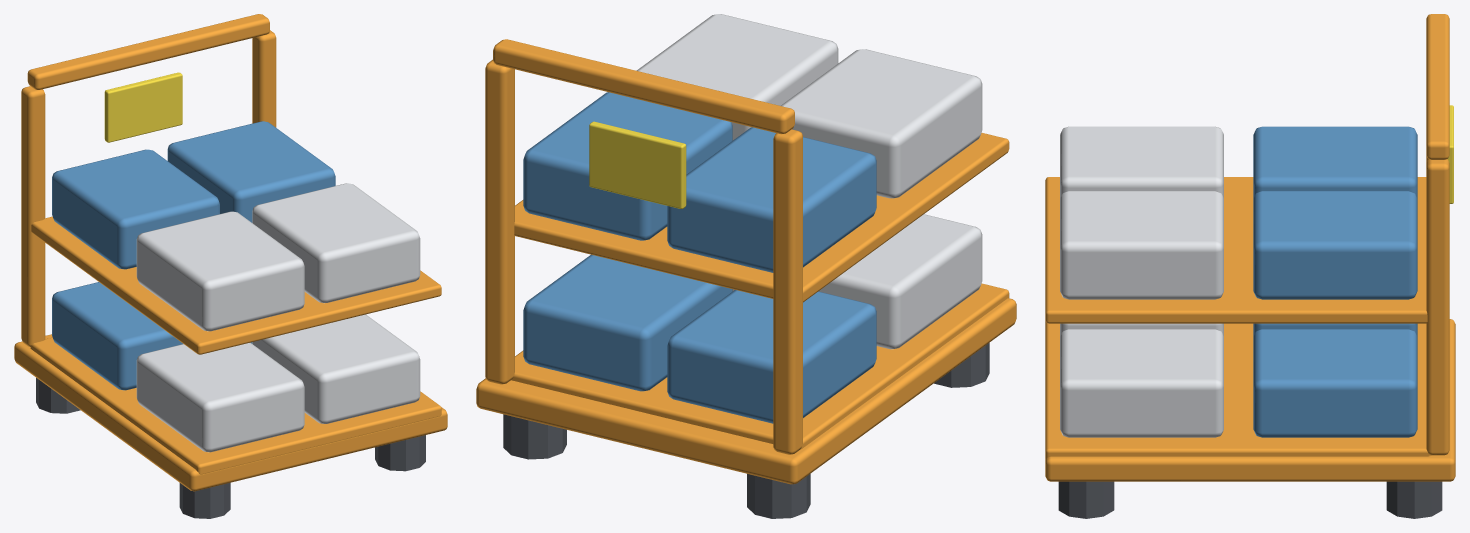
File: kitting-cart.glb
3 renders of one model, left to right at view 1: azimuth 30°, elevation 25°; view 2: azimuth 150°, elevation 25°; view 3: azimuth 270°, elevation 25°, orthographic. The views are drawn at different scales.
Visible parts, largest first — view 1: kitting-cart; view 2: kitting-cart; view 3: kitting-cart.
Part boxes in pixels (bbox=[...]): kitting-cart: bbox=[14, 14, 447, 518]; kitting-cart: bbox=[476, 14, 1016, 518]; kitting-cart: bbox=[1045, 14, 1455, 518].
Bounding box in the file's own units: 1.16 × 1.41 × 1.4.
